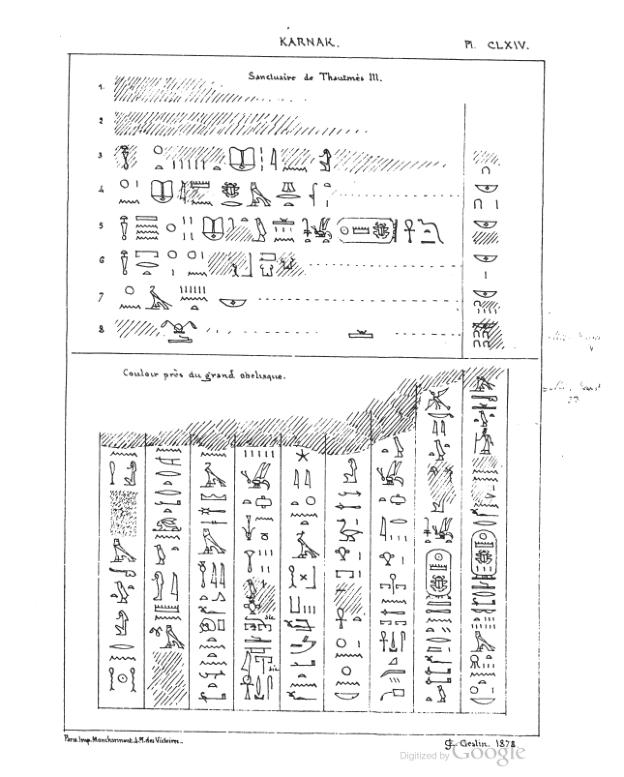circle: (333, 212, 403, 249), (420, 547, 459, 608), (467, 528, 503, 581)
